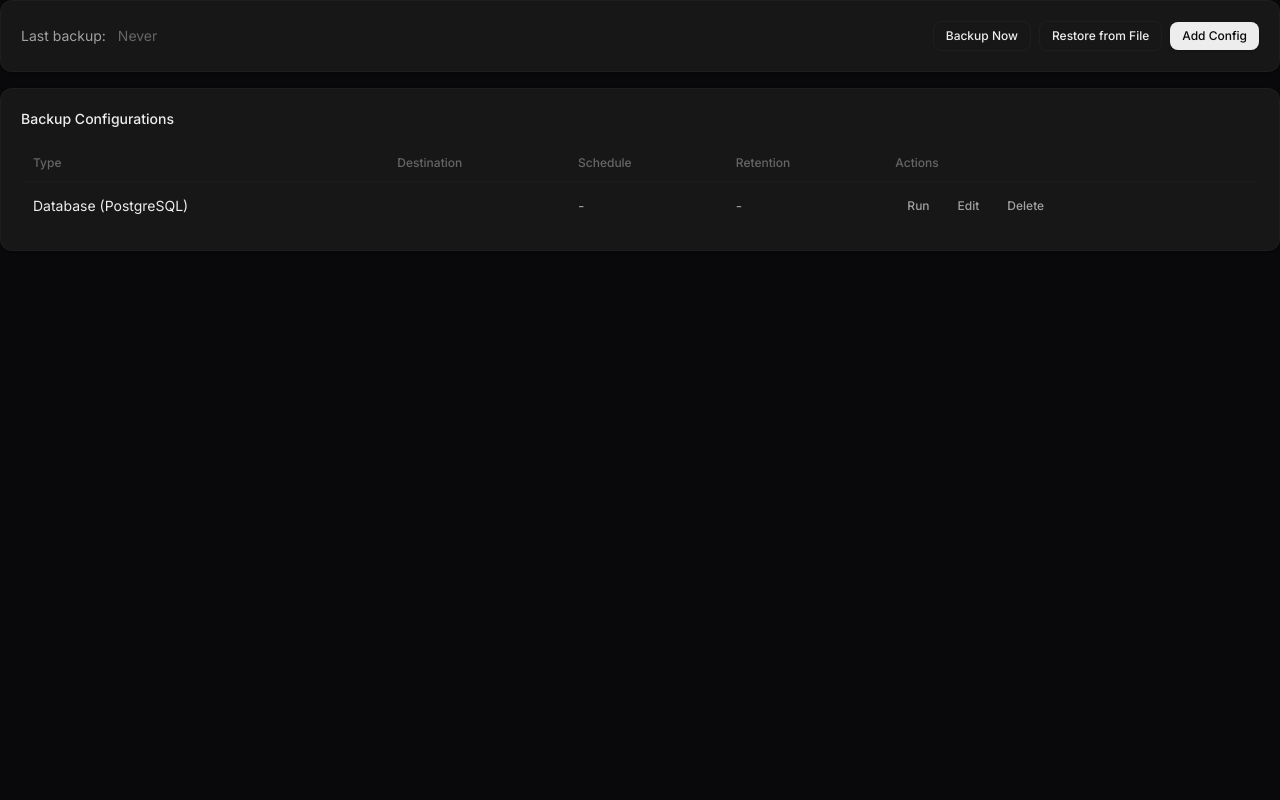
Test: BackupsTab › labels the upload-restore target as an optional service name
Click the button "Restore from File" at {"x": 1101, "y": 36}, box [1039, 21, 1162, 51]
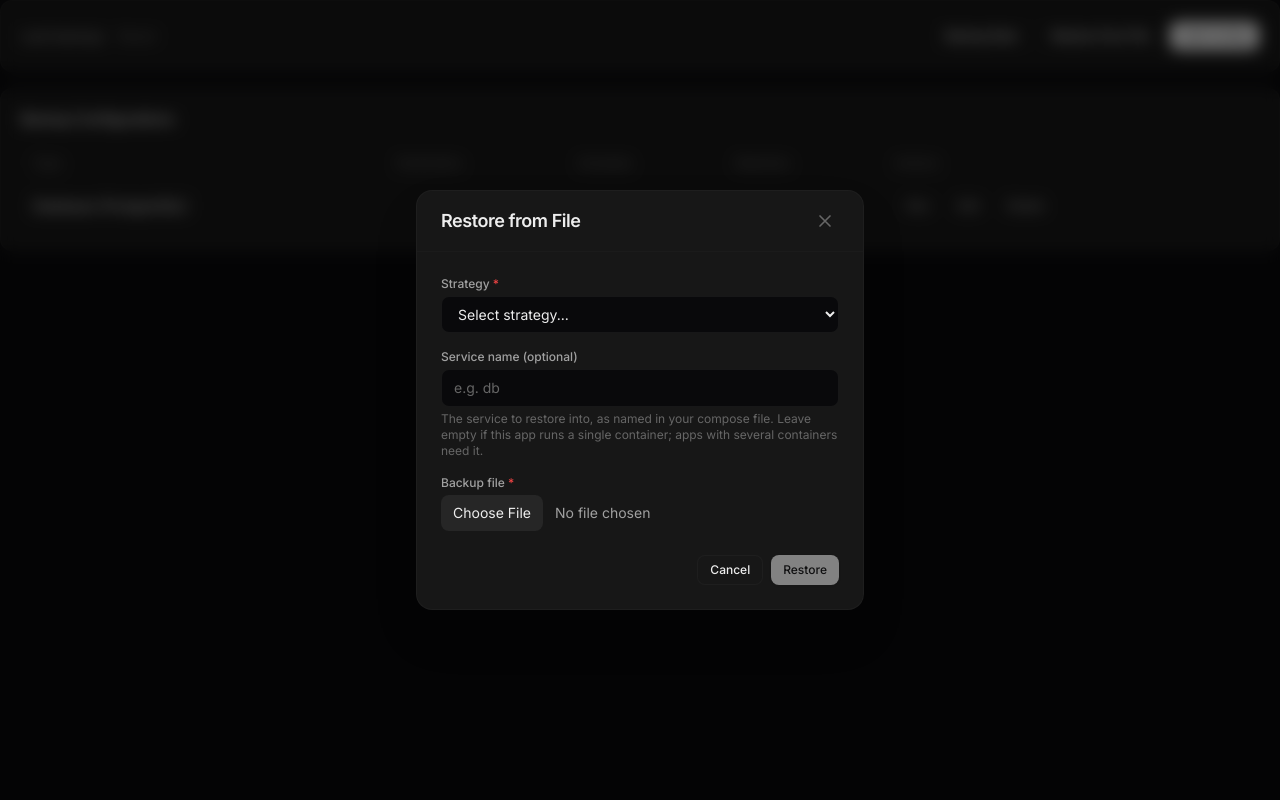
Now the text with test id "upload-restore-service-hint" shows "single container", box [441, 411, 837, 458]
